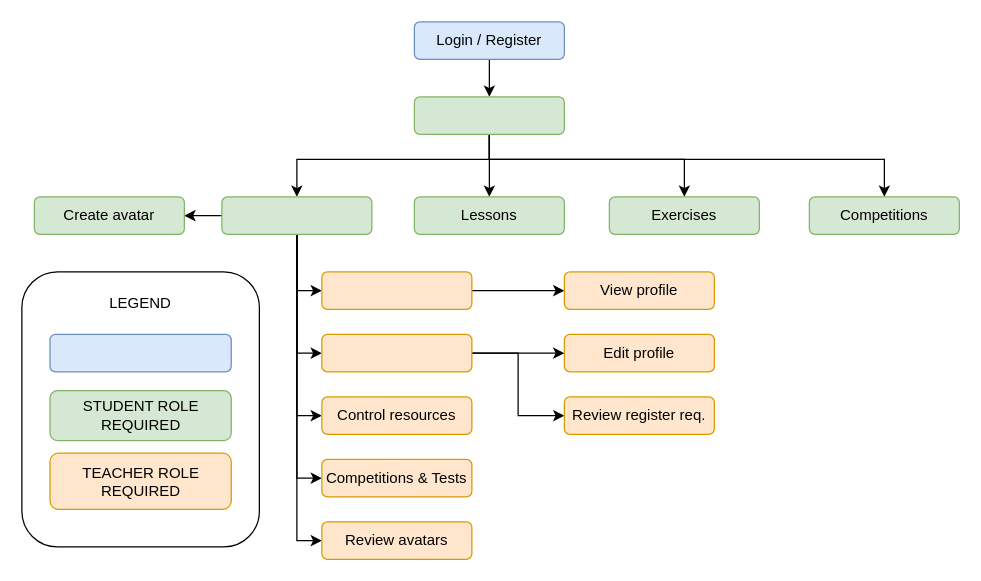
This 981x581 diagram has some shape labels left out. The box of each missing label's shape, as (x1, y1, x2, y2) in pixels:
Control profiles: (321, 333, 472, 372)
Homepage: (413, 96, 564, 134)
NO AUTH REQUIRED: (49, 333, 231, 372)
Profile: (221, 196, 372, 234)
View profiles: (321, 271, 472, 309)
